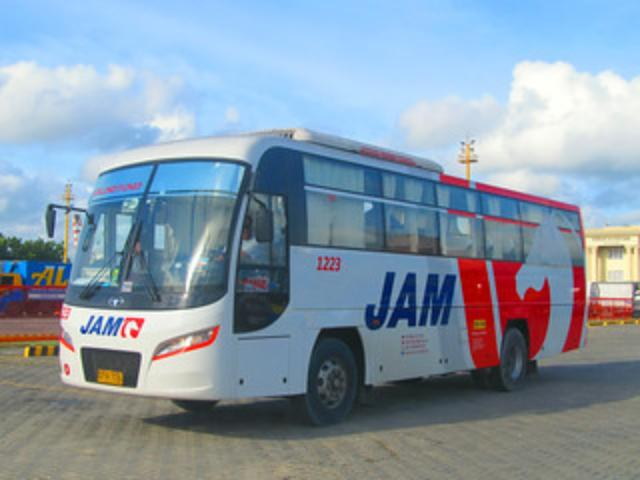bus: (58, 132, 588, 426)
